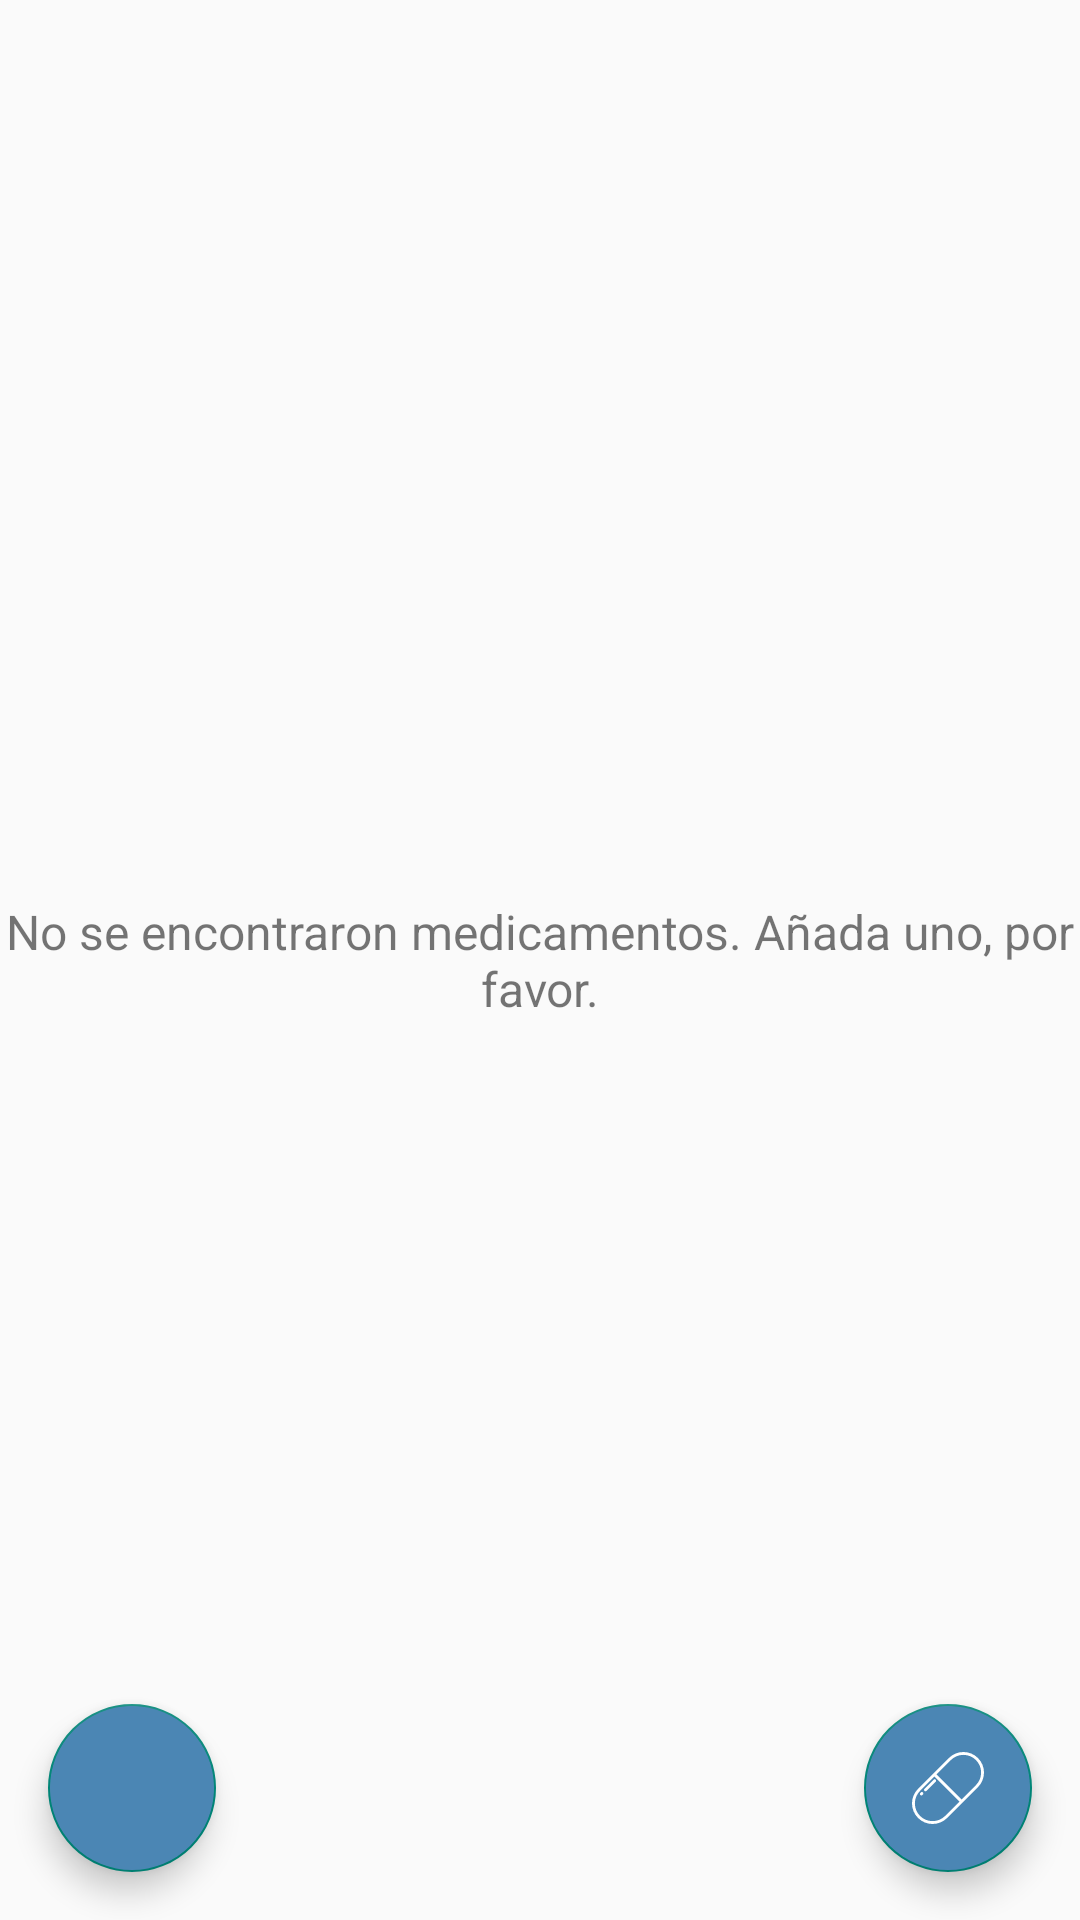

Point at icon controls on the screen. Image size 1080px×1920px, points as (x,y).
add pill: (948,1788)
